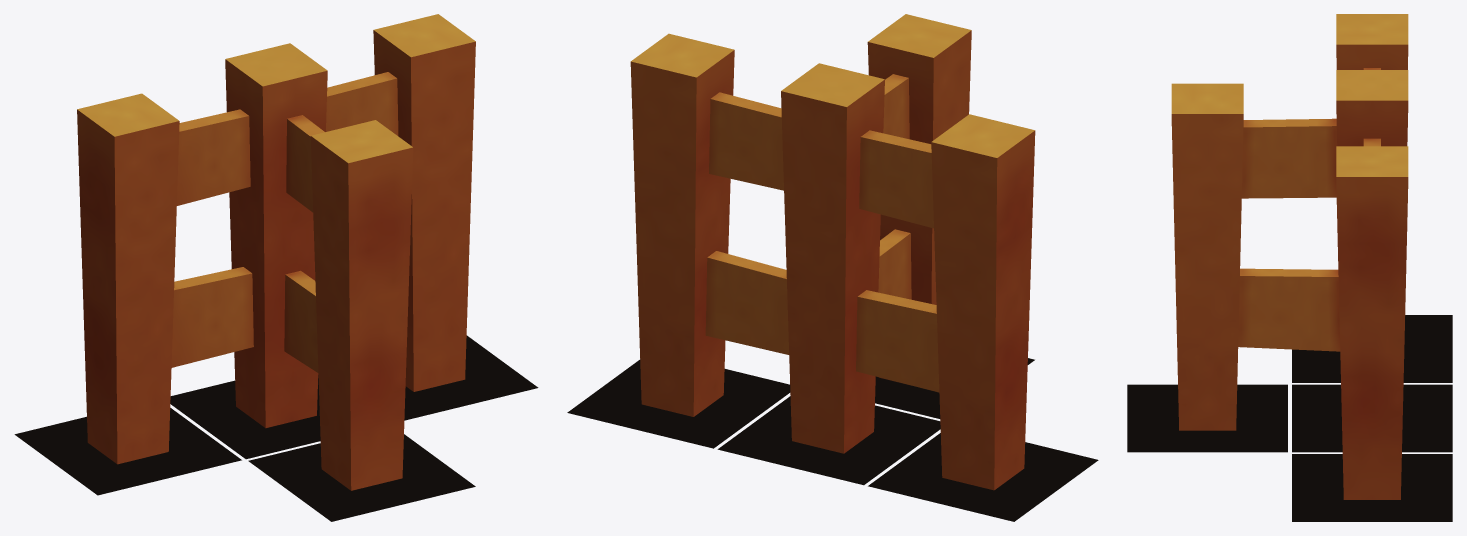
Rendered from green_1x1_t-section_fence.FBX.
3 views of the same model, side by side, from view 1: azimuth 30°, elevation 25°; view 2: azimuth 150°, elevation 25°; view 3: azimuth 270°, elevation 25° (orthographic). The views are drawn at different scales.
Visible parts, largest first — view 1: green_1x1_t-section_fence, green_1x1_t-section_fence_soft_shadow; view 2: green_1x1_t-section_fence, green_1x1_t-section_fence_soft_shadow; view 3: green_1x1_t-section_fence, green_1x1_t-section_fence_soft_shadow.
Part boxes in pixels (x1,y1,x2,y2): green_1x1_t-section_fence: (77,14,475,490); green_1x1_t-section_fence_soft_shadow: (14,335,538,521); green_1x1_t-section_fence: (630,14,1035,490); green_1x1_t-section_fence_soft_shadow: (567,358,1098,521); green_1x1_t-section_fence: (1171,14,1408,499); green_1x1_t-section_fence_soft_shadow: (1127,315,1452,521).
Size of the model in its own units: 1220 by 926 by 810.
